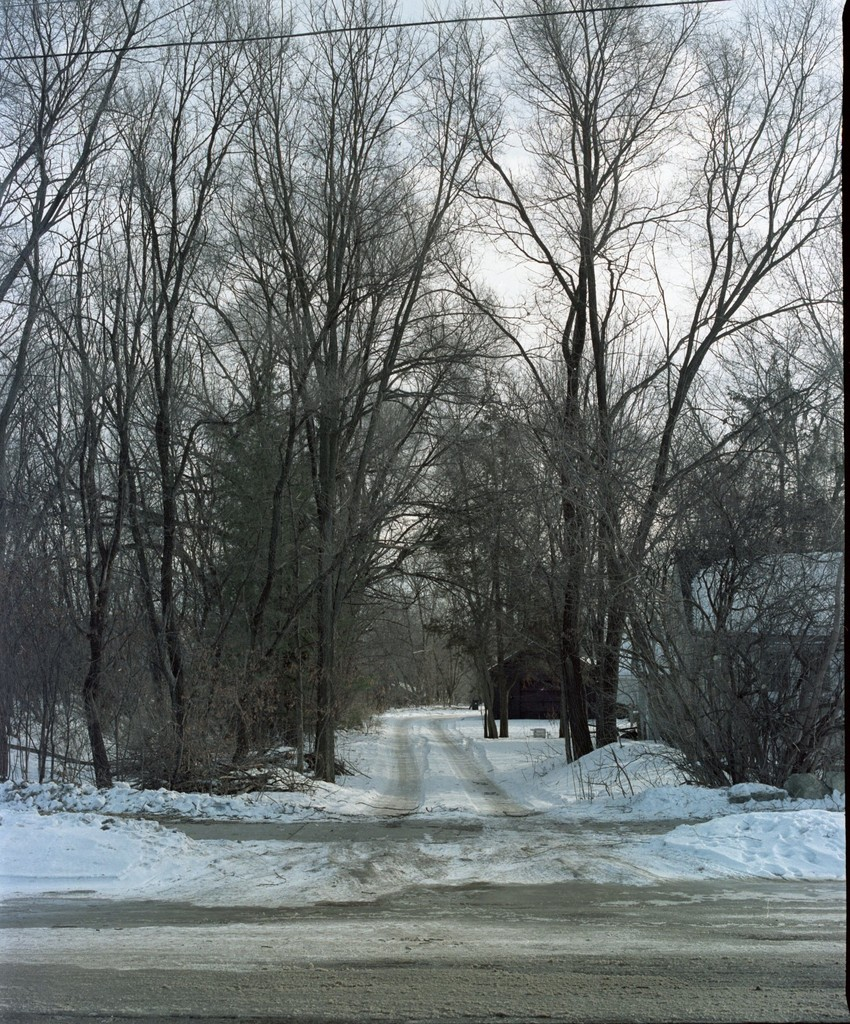Tree: (1, 1, 844, 793)
